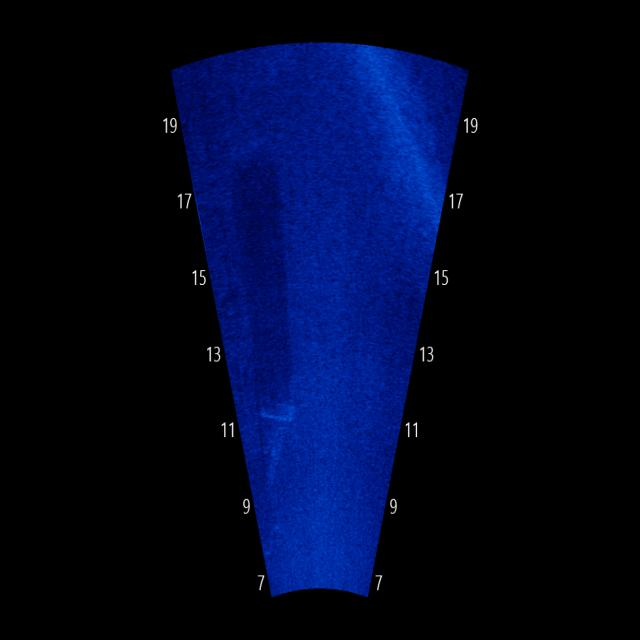triangle: (254, 388, 292, 501)
